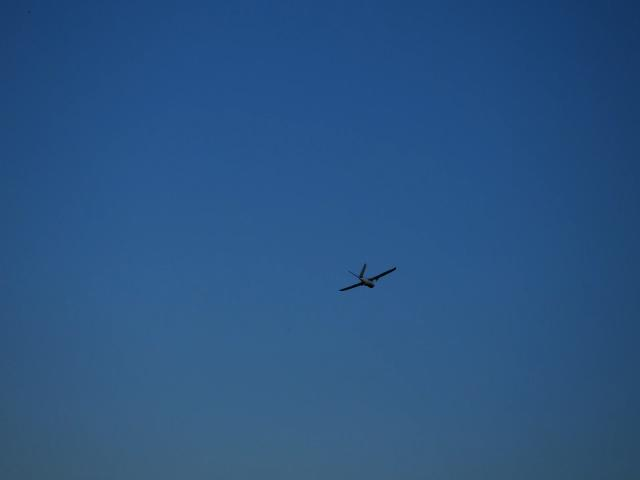plane: (339, 262, 398, 292)
